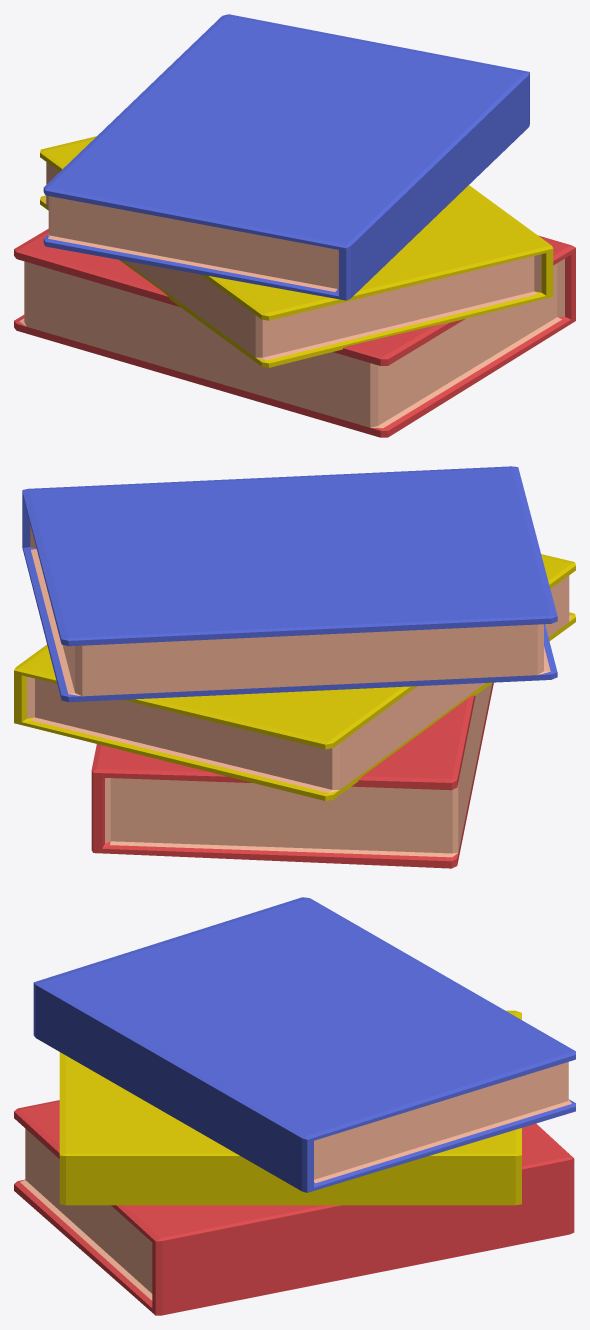
The model's file is Book_stack_1_001.glb.
3 renders of one model, top to bottom at view 1: azimuth 30°, elevation 25°; view 2: azimuth 150°, elevation 25°; view 3: azimuth 270°, elevation 25°, orthographic. The views are drawn at different scales.
Visible parts, largest first — view 1: Book_stack_1_001; view 2: Book_stack_1_001; view 3: Book_stack_1_001.
Boxes of the visible parts, x1,y1,x2,y2 form: Book_stack_1_001: (14, 14, 575, 437); Book_stack_1_001: (14, 466, 575, 868); Book_stack_1_001: (14, 897, 575, 1315).
Size of the model in its own units: 0.9838 by 0.3735 by 0.9701.
